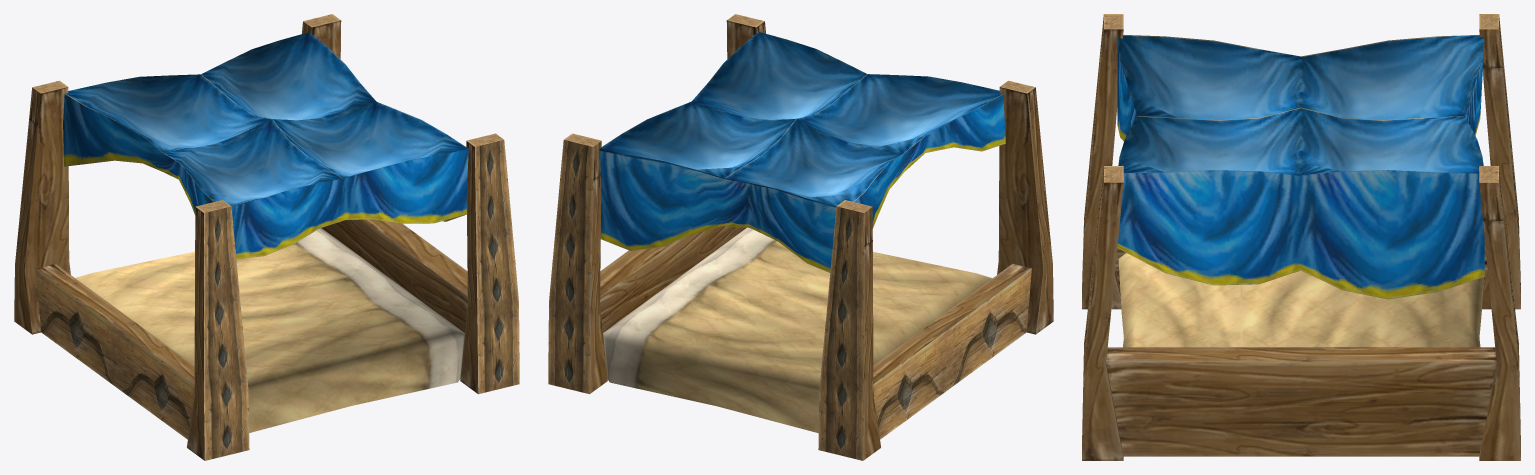
Rendered from innbedcanopy.obj.
The picture shows the model from 3 angles, left to right: view 1: azimuth 30°, elevation 25°; view 2: azimuth 150°, elevation 25°; view 3: azimuth 270°, elevation 25°; orthographic projection. The views are drawn at different scales.
Parts seen in each view (by area): view 1: 1, 2, 3, 4, 5, 0; view 2: 1, 2, 3, 4, 5, 0; view 3: 1, 3, 2, 4, 0.
Boxes of the visible parts, x1,y1,x2,y2 form: 1: [63, 32, 468, 258]; 2: [75, 228, 464, 432]; 3: [14, 20, 478, 460]; 4: [204, 140, 519, 460]; 5: [36, 268, 194, 439]; 0: [32, 14, 503, 212]; 1: [599, 32, 1005, 272]; 2: [603, 227, 992, 433]; 3: [589, 20, 1053, 460]; 4: [548, 140, 863, 460]; 5: [873, 268, 1031, 439]; 0: [564, 14, 1035, 212]; 1: [1117, 34, 1484, 299]; 3: [1082, 29, 1520, 460]; 2: [1118, 253, 1483, 347]; 4: [1082, 14, 1520, 457]; 0: [1104, 14, 1498, 182].
Size of the model in its own units: 5.92 by 4.29 by 6.21.
6 materials, 6 textured.
